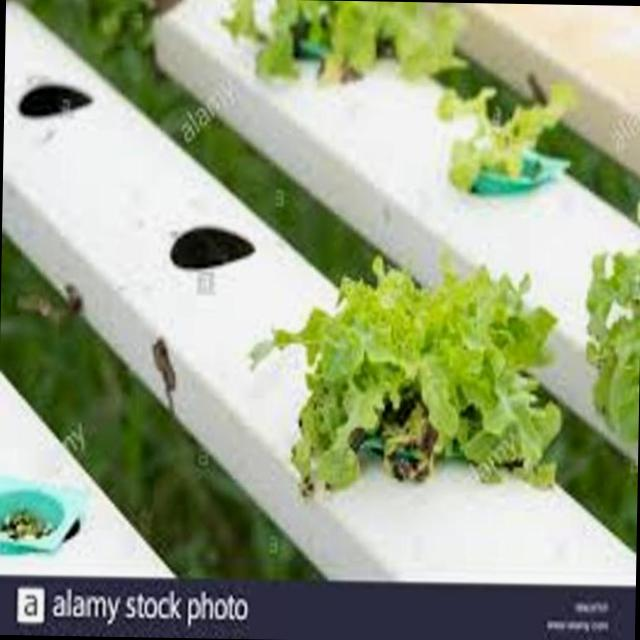Lettuce-Ready-to-Harvest: (272, 262, 560, 489), (226, 0, 456, 81), (442, 93, 555, 191), (588, 255, 640, 440)
